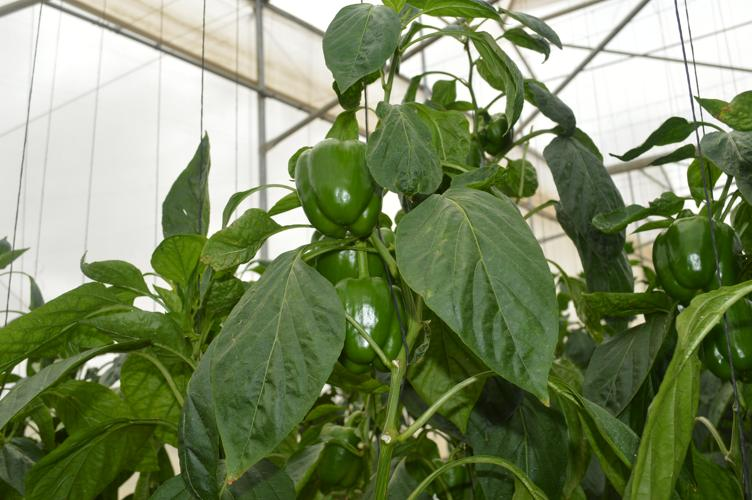BellPepper: (292, 137, 376, 238), (648, 218, 736, 298), (331, 279, 398, 372), (698, 301, 745, 385), (311, 245, 383, 284)
